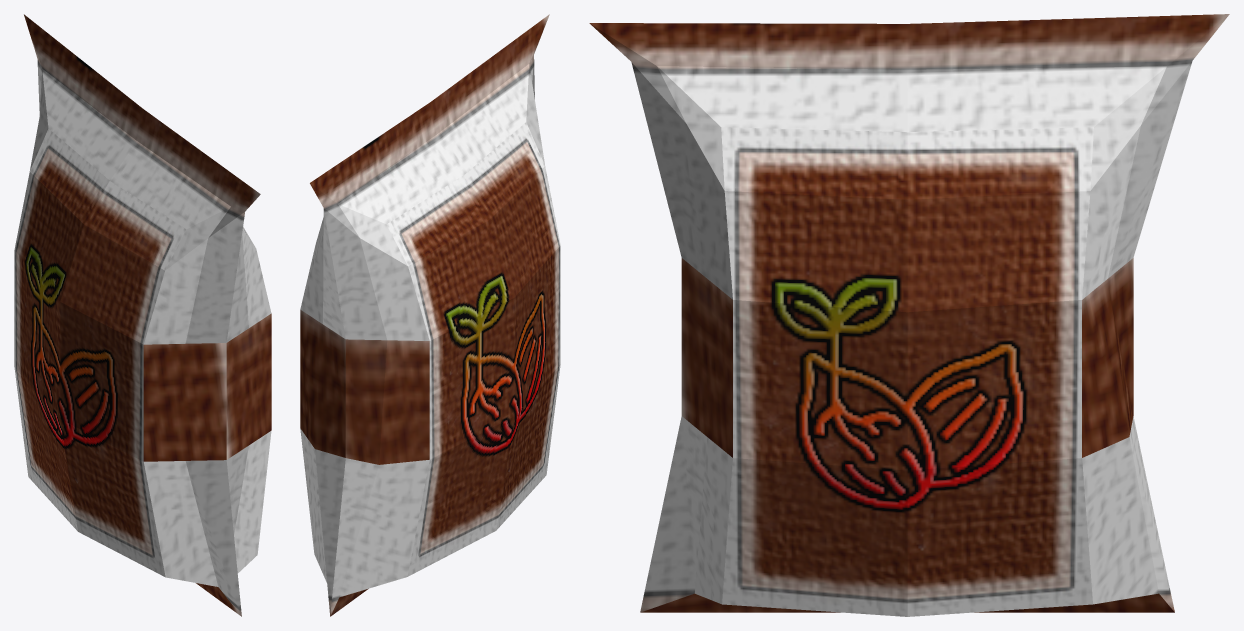
File: Bigbag_of_ReturningFertilizer.glb
3 renders of one model, left to right at view 1: azimuth 30°, elevation 25°; view 2: azimuth 150°, elevation 25°; view 3: azimuth 270°, elevation 25°, orthographic. The views are drawn at different scales.
Parts seen in each view (by area): view 1: Куб; view 2: Куб; view 3: Куб.
Part boxes in pixels (bbox=[...]): Куб: bbox=[14, 14, 271, 616]; Куб: bbox=[300, 14, 560, 616]; Куб: bbox=[589, 14, 1229, 616].
Bounding box in the file's own units: 0.4879 × 1.25 × 1.21.
1 material, 1 textured.
